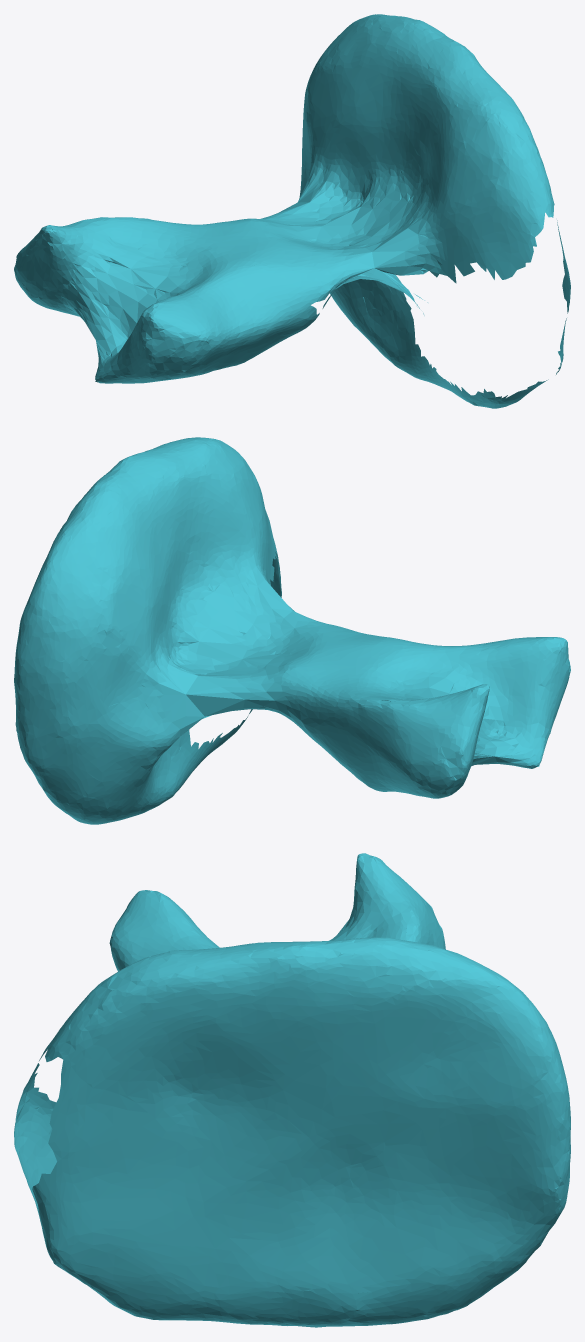
3 renders of one model, top to bottom at view 1: azimuth 30°, elevation 25°; view 2: azimuth 150°, elevation 25°; view 3: azimuth 270°, elevation 25°, orthographic. The views are drawn at different scales.
Visible parts, largest first — view 1: Renderer Node; view 2: Renderer Node; view 3: Renderer Node.
Boxes of the visible parts, x1,y1,x2,y2 form: Renderer Node: (14, 14, 570, 408); Renderer Node: (14, 437, 570, 824); Renderer Node: (14, 853, 570, 1327).
Bounding box in the file's own units: 0.7328 × 0.5633 × 0.7124.
1 material, 1 textured.
